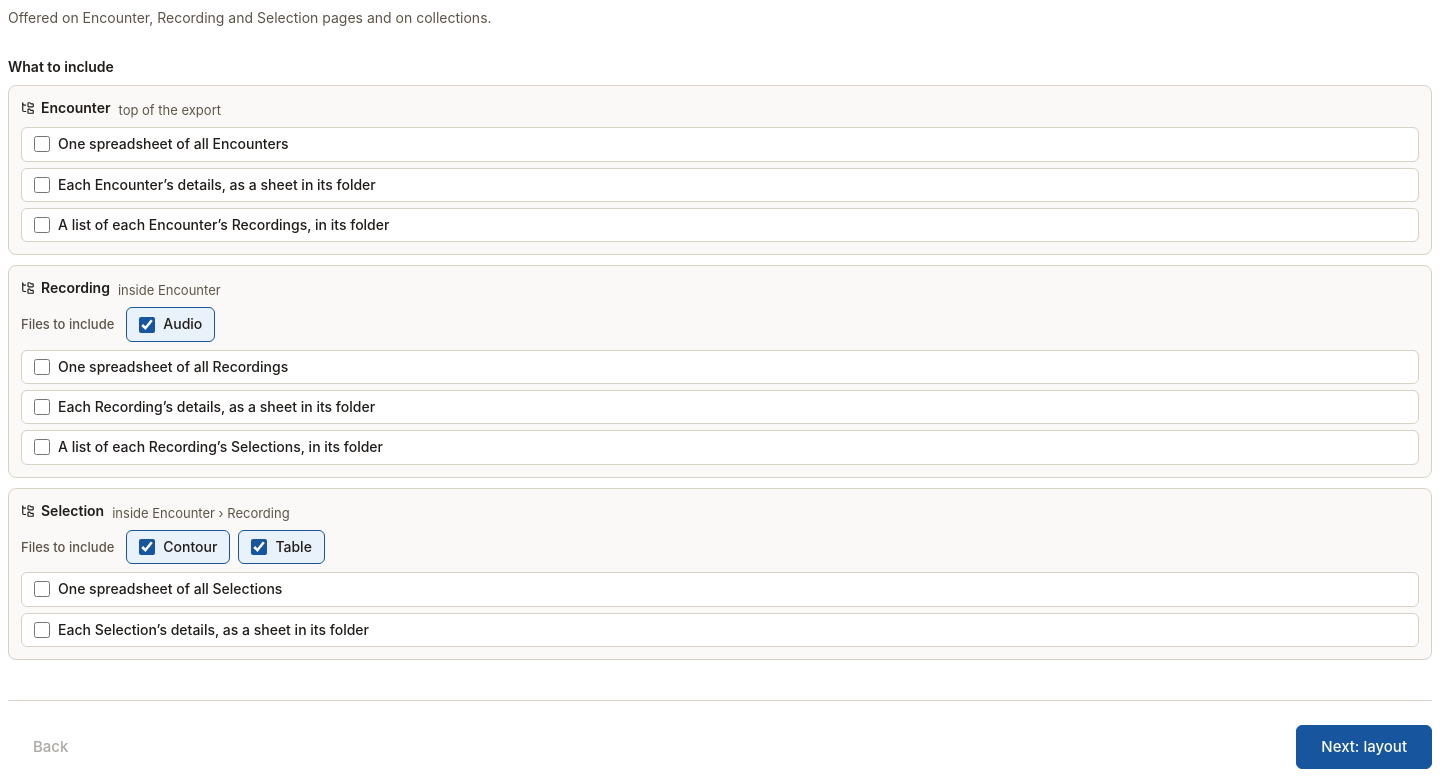
Test: reviewing › shows why a preview failed
(page scrolled)
Step 1. Click the button "Next: layout" → {"x": 1364, "y": 747}, box left=1296, top=725, right=1432, bottom=769
(page scrolled)
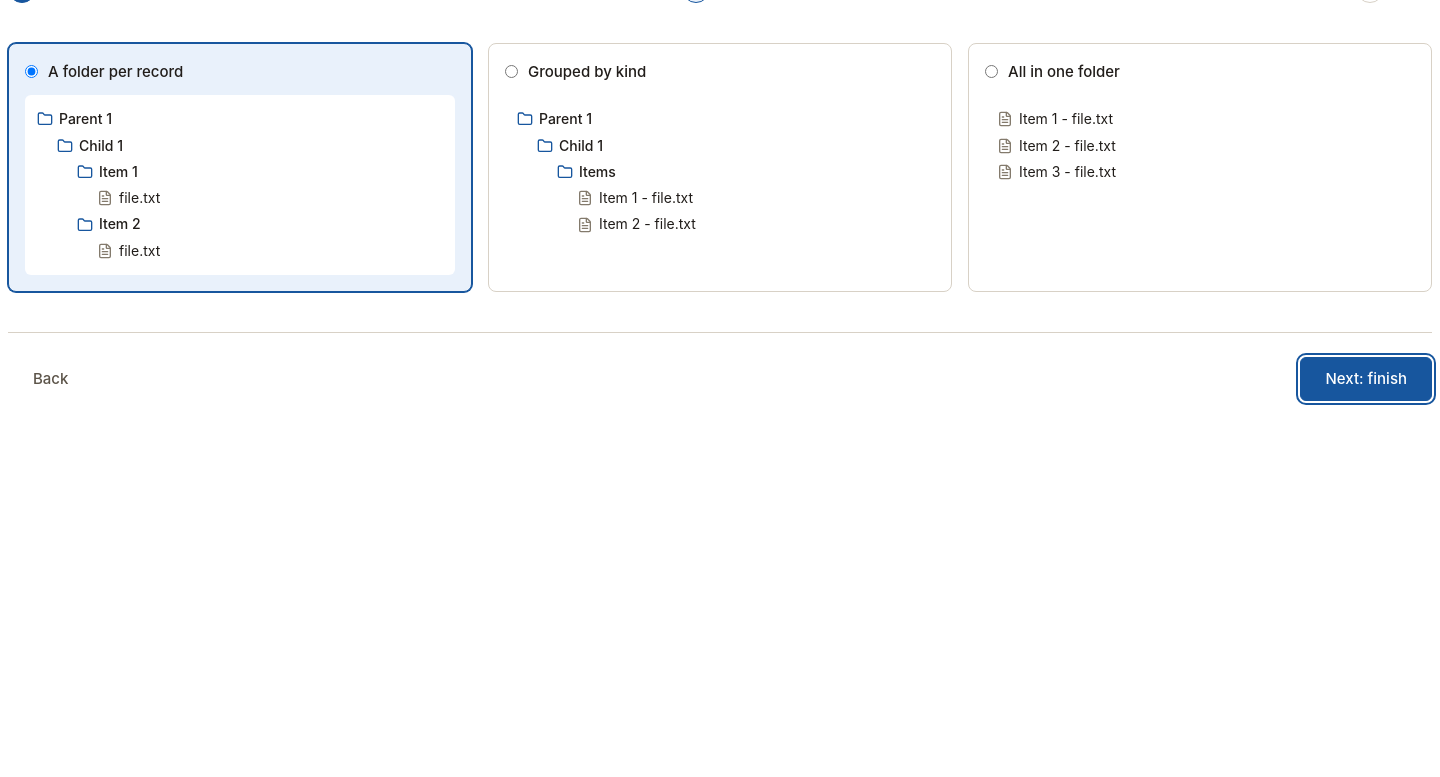
Step 2. Click the button "Next: finish" → {"x": 1366, "y": 379}, box left=1300, top=357, right=1432, bottom=401
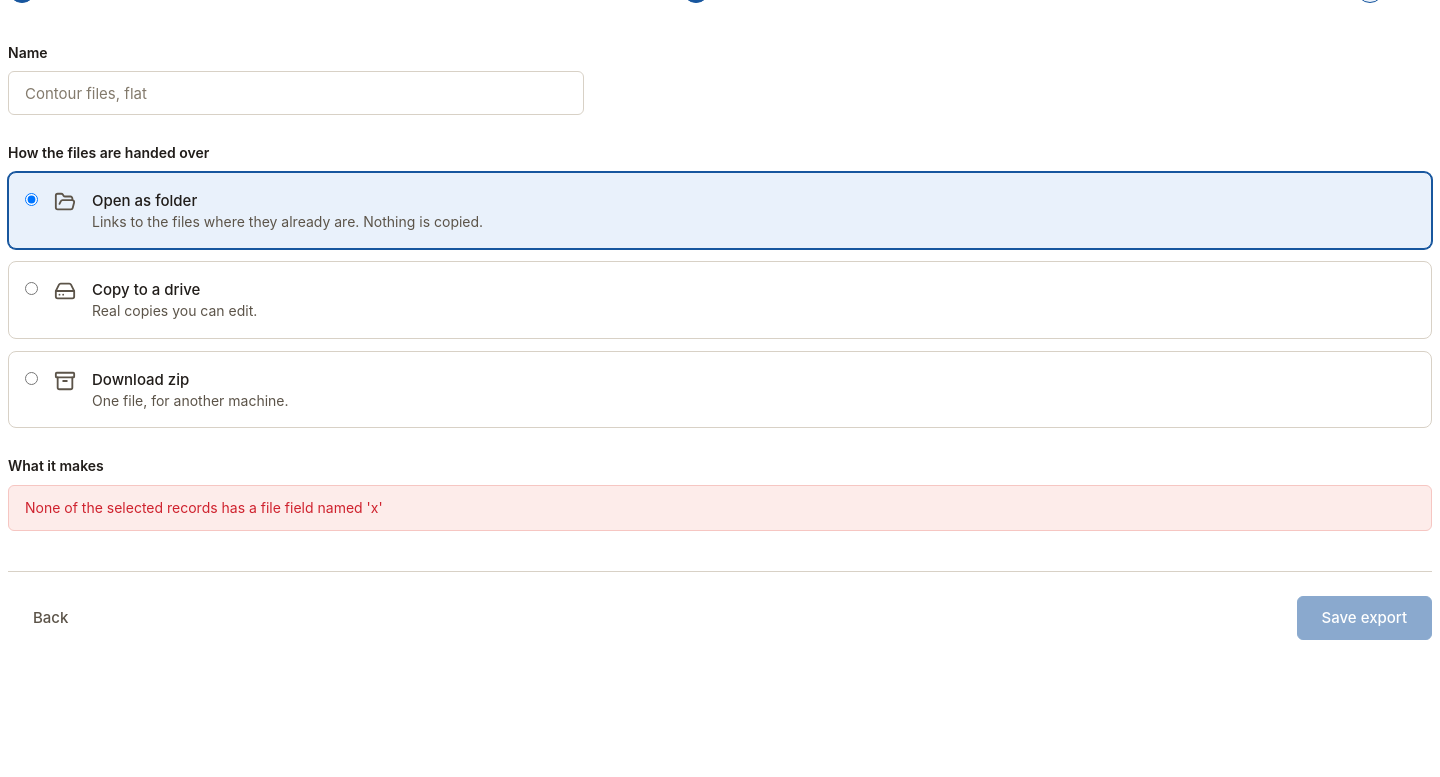
Check: the text "None of the selected records has a file field named 'x'" is shown, box left=8, top=484, right=1432, bottom=531
